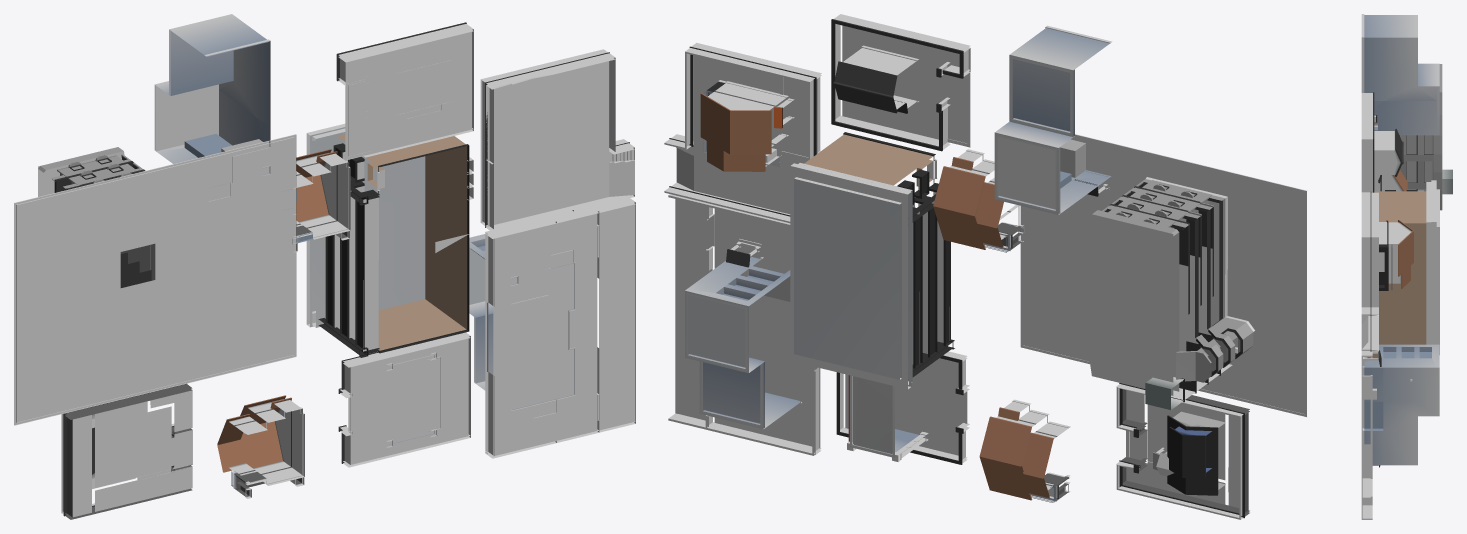
The model's file is SM_000290_merge_w40h102_atlas1_1_4_lv2.fbx.
The picture shows the model from 3 angles, left to right: view 1: azimuth 30°, elevation 25°; view 2: azimuth 150°, elevation 25°; view 3: azimuth 270°, elevation 25°; orthographic projection. The views are drawn at different scales.
Visible parts, largest first — view 1: SM_000290.001; view 2: SM_000290.001; view 3: SM_000290.001.
Boxes of the visible parts, box(x1,y1,x2,y2) form: SM_000290.001: box(14, 14, 635, 519); SM_000290.001: box(664, 14, 1307, 519); SM_000290.001: box(1361, 14, 1452, 519).
Bounding box in the file's own units: 82.87 × 60.17 × 18.18.
